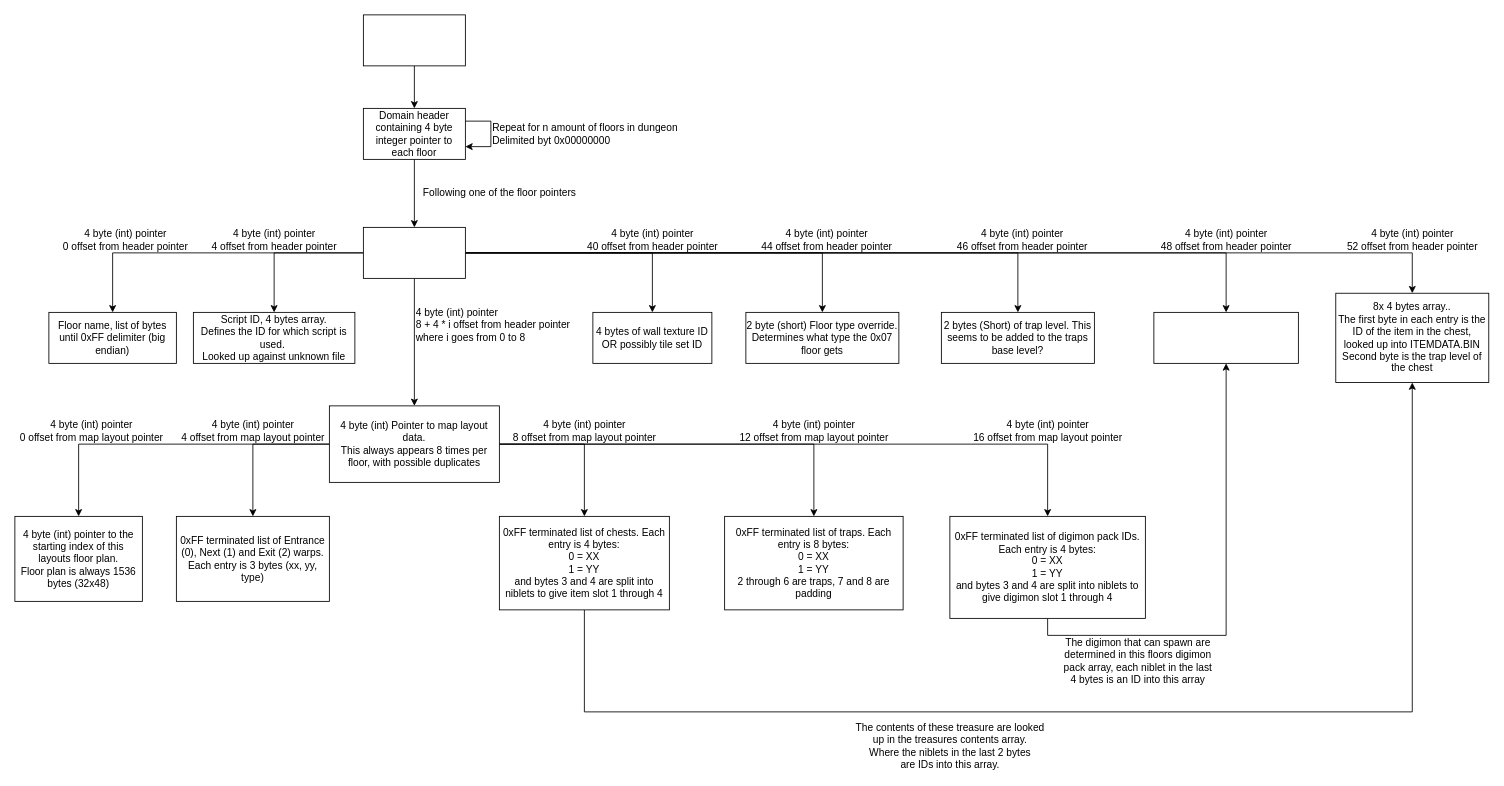
Image size: 1504x786. Some labels were removed from this diagram. Each missing label, with the centre of its shape:
"4 bytes array, digimon pack ID, looked up into ENEMYSET.BIN" belongs at point 1225,337.
"DUNG floor header" belongs at point 414,252.
"Start of DUNG.bin file" belongs at point 414,40.
